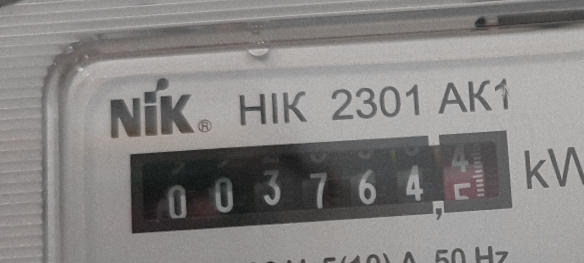0: (210, 173, 235, 214), (163, 181, 189, 220)
3: (258, 166, 283, 207)
4: (402, 162, 425, 202), (448, 141, 471, 174)
5: (450, 179, 473, 202)
6: (355, 166, 378, 206)
7: (306, 167, 332, 211)
screen: (111, 111, 528, 248)
